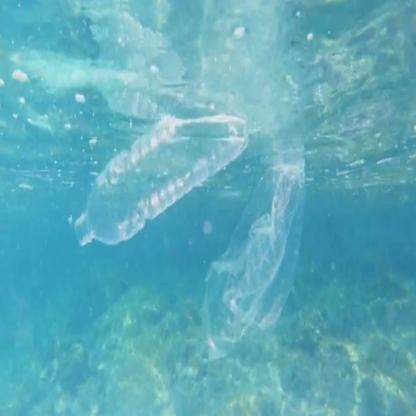Rác: (62, 59, 247, 250), (196, 173, 349, 347)
